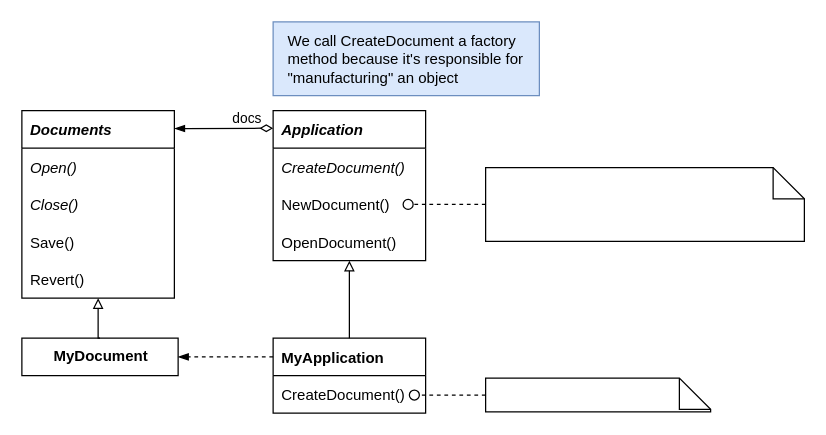
The diagram is 826 pixels wide and 435 high, and some of its shapes have lost their labels. The centre of each missing label's shape, as x and y in pixels:
Document* doc = CreateDocument(); docs.Add(doc); doc->Open();: the point at 644,203
return new MyDocument: the point at 597,394
